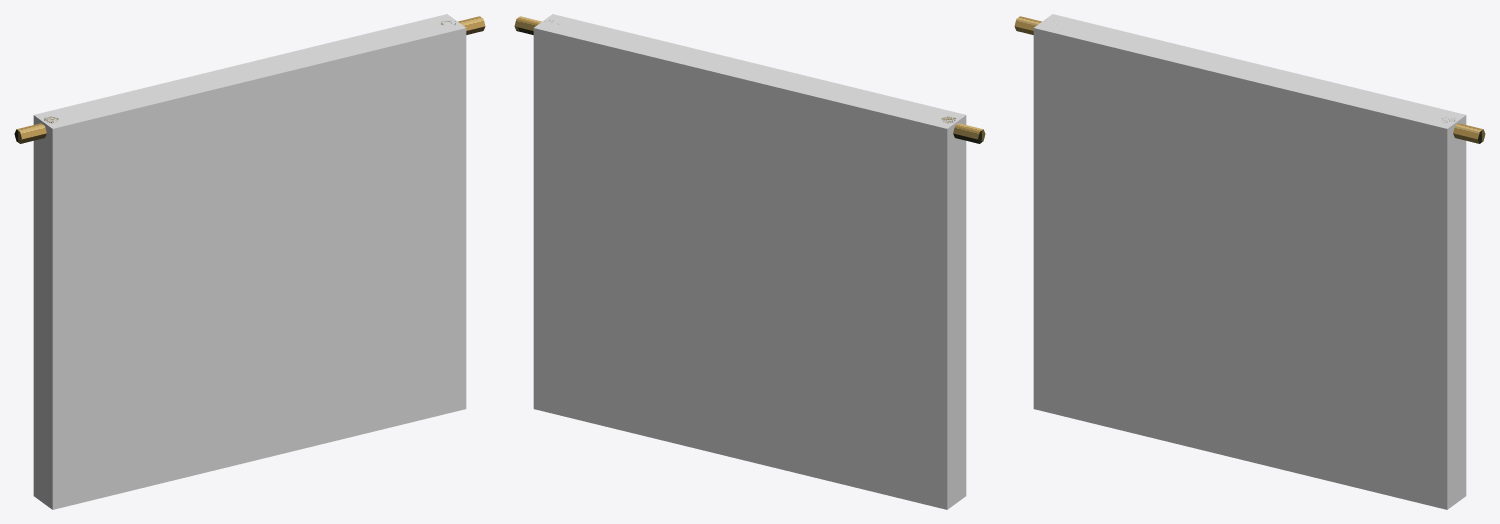
The model's file is JP_Prop_NetFrame_A.glb.
The picture shows the model from 3 angles, left to right: view 1: azimuth 30°, elevation 25°; view 2: azimuth 150°, elevation 25°; view 3: azimuth 330°, elevation 25°; orthographic projection.
Parts seen in each view (by area): view 1: COL_JP_Prop_NetFrame_A, JP_Prop_NetFrame_A; view 2: COL_JP_Prop_NetFrame_A, JP_Prop_NetFrame_A; view 3: COL_JP_Prop_NetFrame_A, JP_Prop_NetFrame_A.
Boxes of the visible parts, bbox=[...] form: COL_JP_Prop_NetFrame_A: bbox=[33, 14, 466, 509]; JP_Prop_NetFrame_A: bbox=[14, 16, 485, 143]; COL_JP_Prop_NetFrame_A: bbox=[533, 14, 966, 509]; JP_Prop_NetFrame_A: bbox=[514, 16, 985, 143]; COL_JP_Prop_NetFrame_A: bbox=[1033, 14, 1466, 509]; JP_Prop_NetFrame_A: bbox=[1014, 16, 1485, 143].
Bounding box in the file's own units: 2.8 × 2.2 × 0.2.
Materials: 2 (2 with a texture image).
